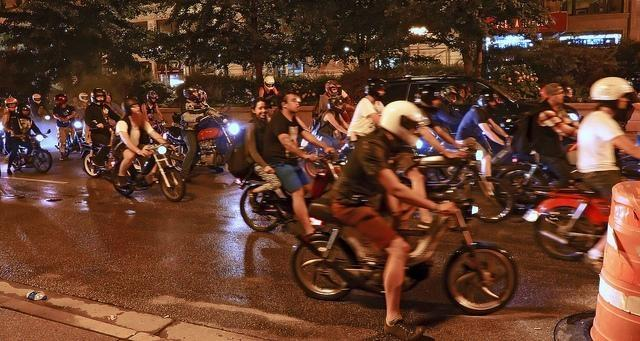bicycle: (292, 177, 518, 312), (239, 153, 339, 231)
car: (381, 74, 582, 132)
motorcycle: (293, 205, 517, 315), (233, 150, 349, 232), (414, 154, 516, 224), (524, 187, 610, 261), (163, 102, 244, 172), (492, 138, 560, 214), (109, 142, 184, 202), (301, 131, 348, 179), (12, 128, 52, 174), (54, 118, 86, 159), (78, 142, 104, 176)
